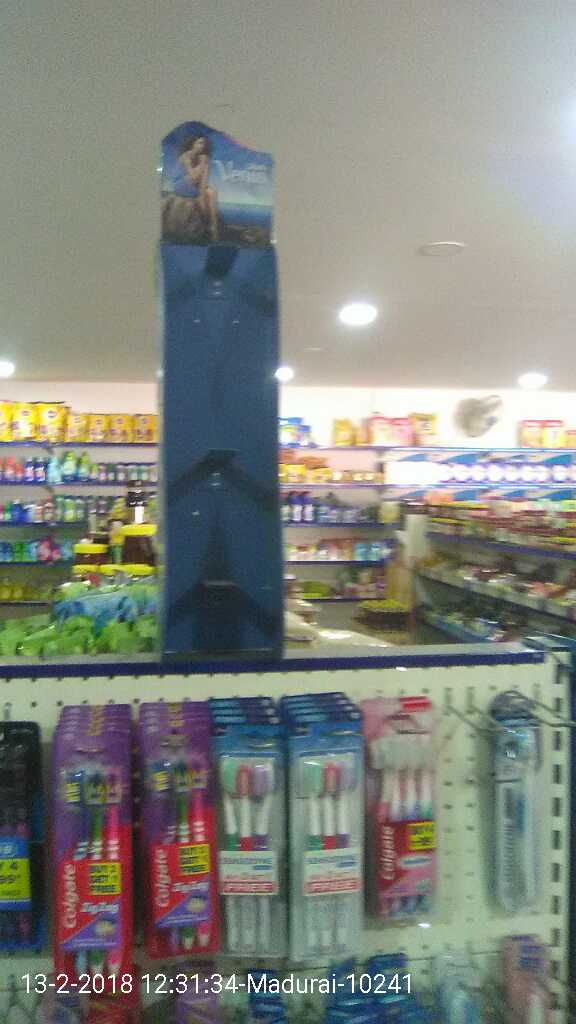reject: (152, 342, 252, 409)
